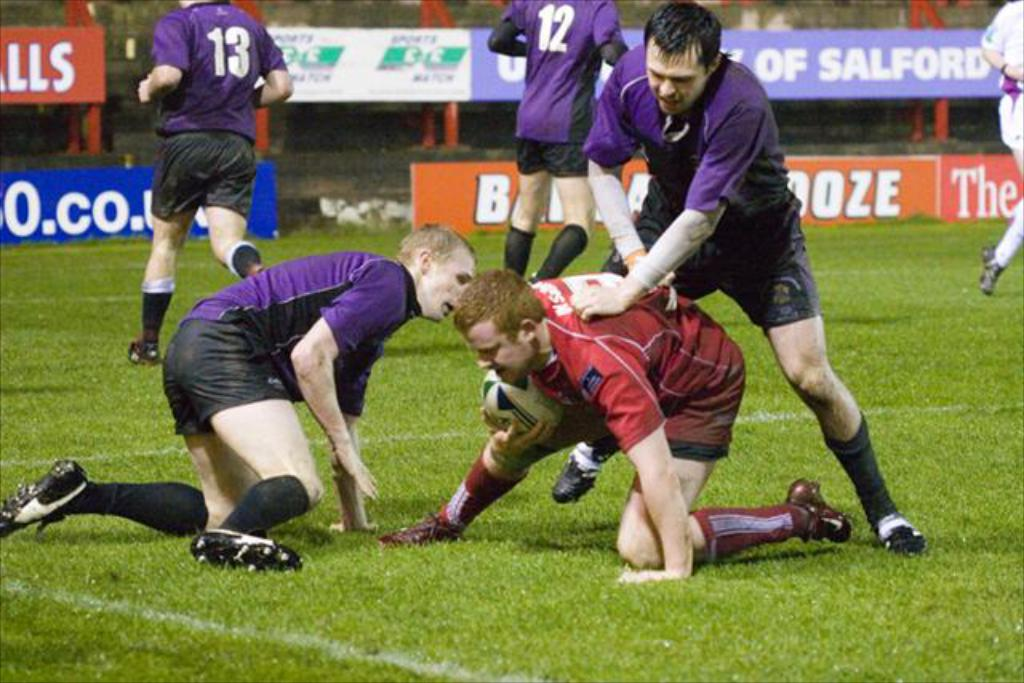Ball: (480, 371, 565, 435)
